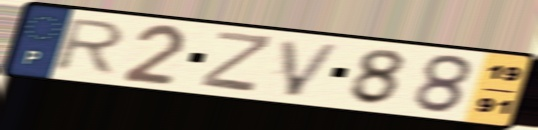2: (121, 22, 191, 88)
8: (410, 53, 474, 115), (348, 48, 410, 107)
R: (49, 16, 131, 77)
V: (277, 37, 346, 100)
Z: (196, 29, 277, 96)
